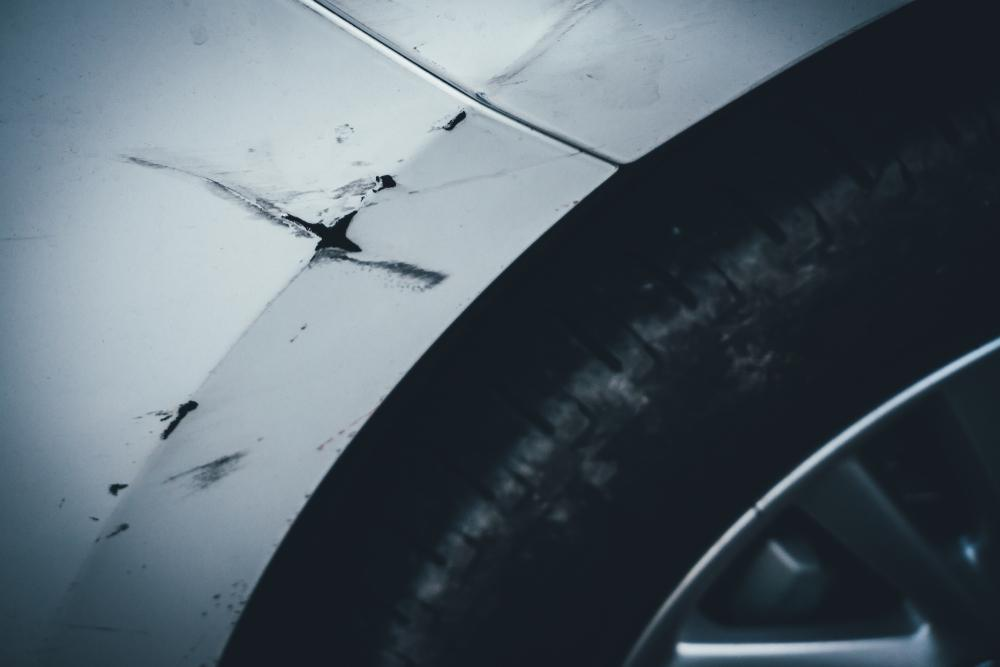scratch: (113, 101, 470, 301), (67, 394, 274, 550)
